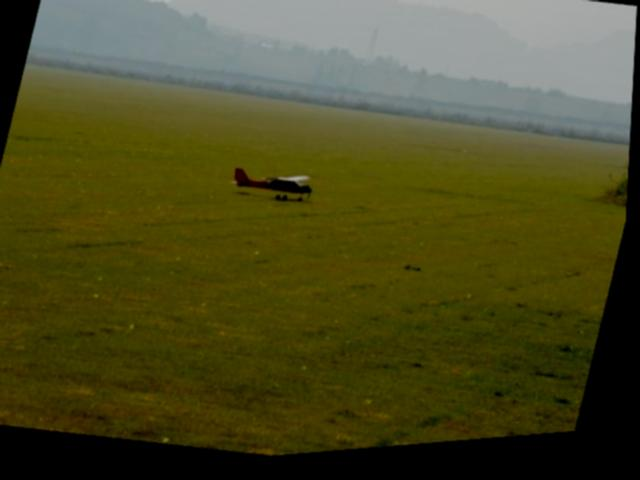iha: (228, 164, 328, 217)
